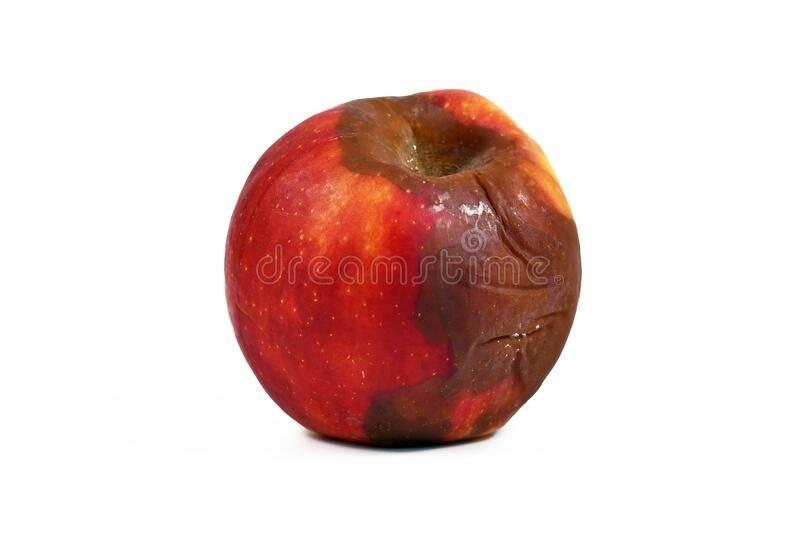Apple: (222, 91, 583, 446)
